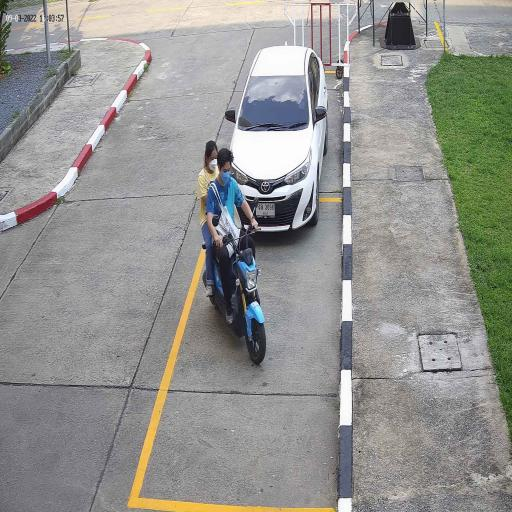car: (227, 44, 330, 234)
motorcycle: (201, 242, 266, 366)
